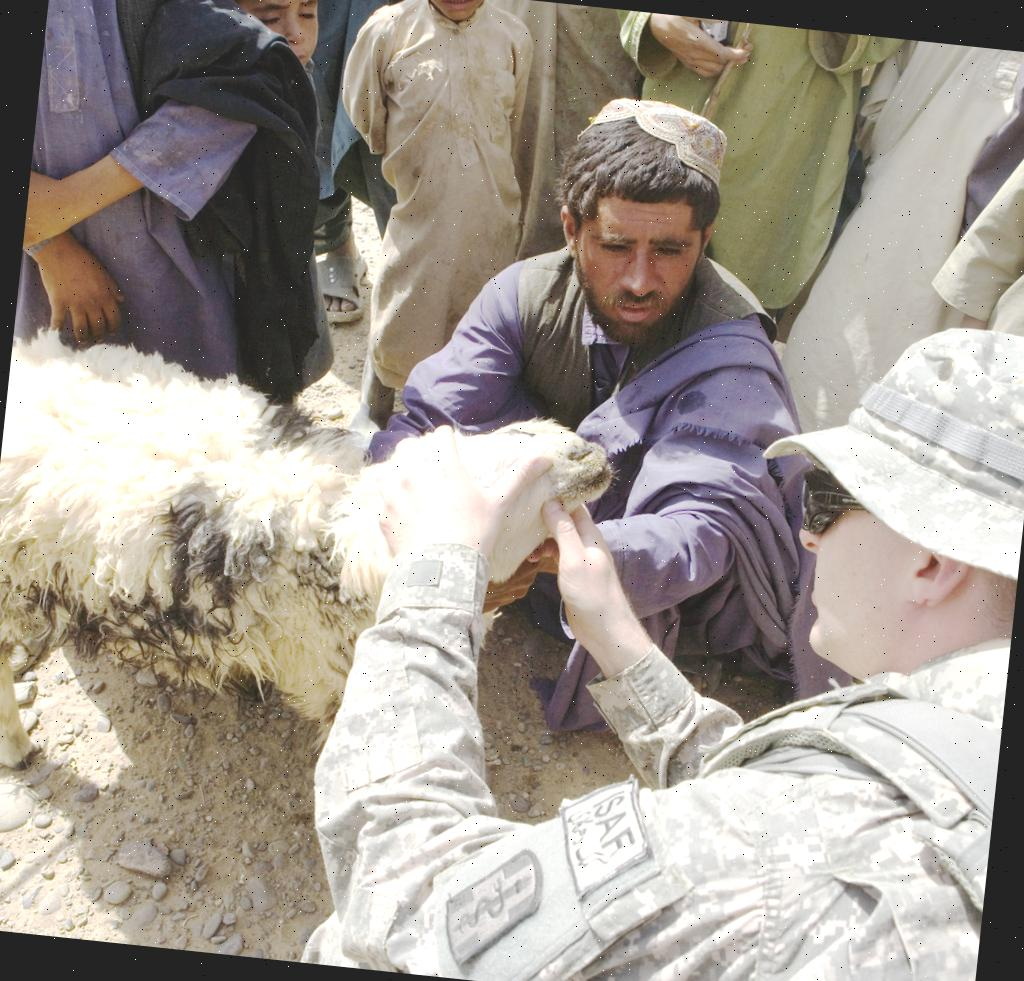Sheep: (0, 247, 531, 807)
